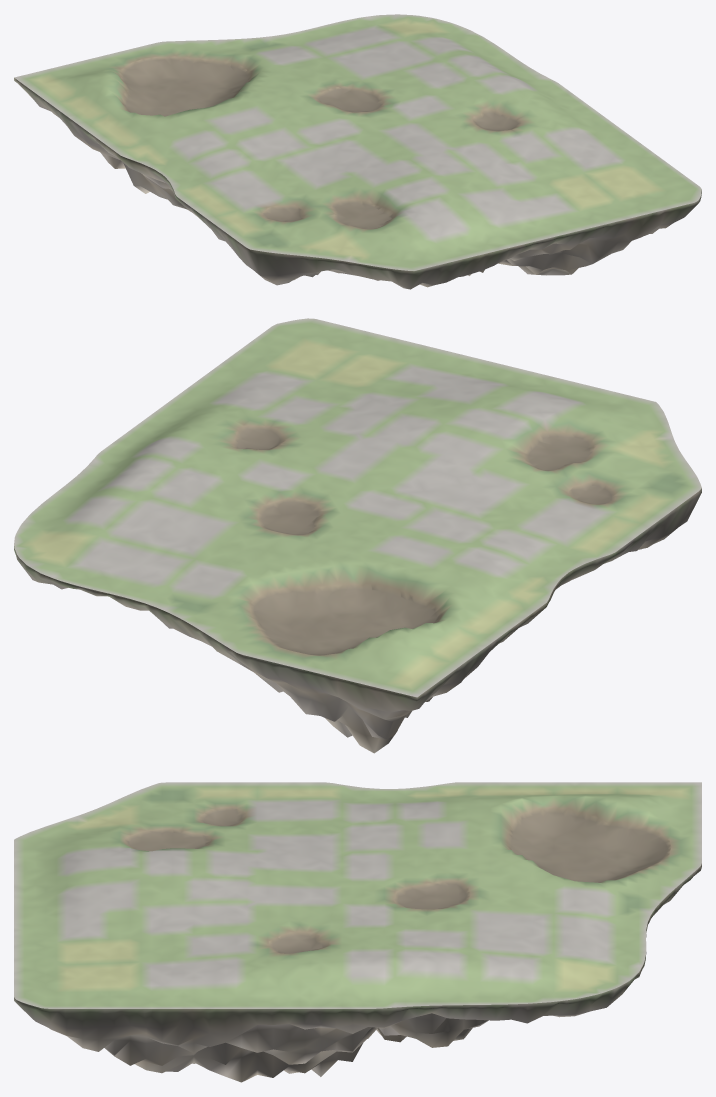
The model's file is SKY-046.rock.glb.
3 views of the same model, one above another, from view 1: azimuth 30°, elevation 25°; view 2: azimuth 150°, elevation 25°; view 3: azimuth 270°, elevation 25° (orthographic). The views are drawn at different scales.
Visible parts, largest first — view 1: deck-col, rock; view 2: deck-col, rock; view 3: deck-col, rock.
Part boxes in pixels (x1=…): deck-col: x1=14, y1=14, x2=701, y2=270; rock: x1=14, y1=78, x2=701, y2=289; deck-col: x1=14, y1=318, x2=701, y2=697; rock: x1=14, y1=488, x2=701, y2=753; deck-col: x1=14, y1=782, x2=701, y2=1008; rock: x1=14, y1=863, x2=701, y2=1082.
Size of the model in its own units: 203 by 76.87 by 260.
